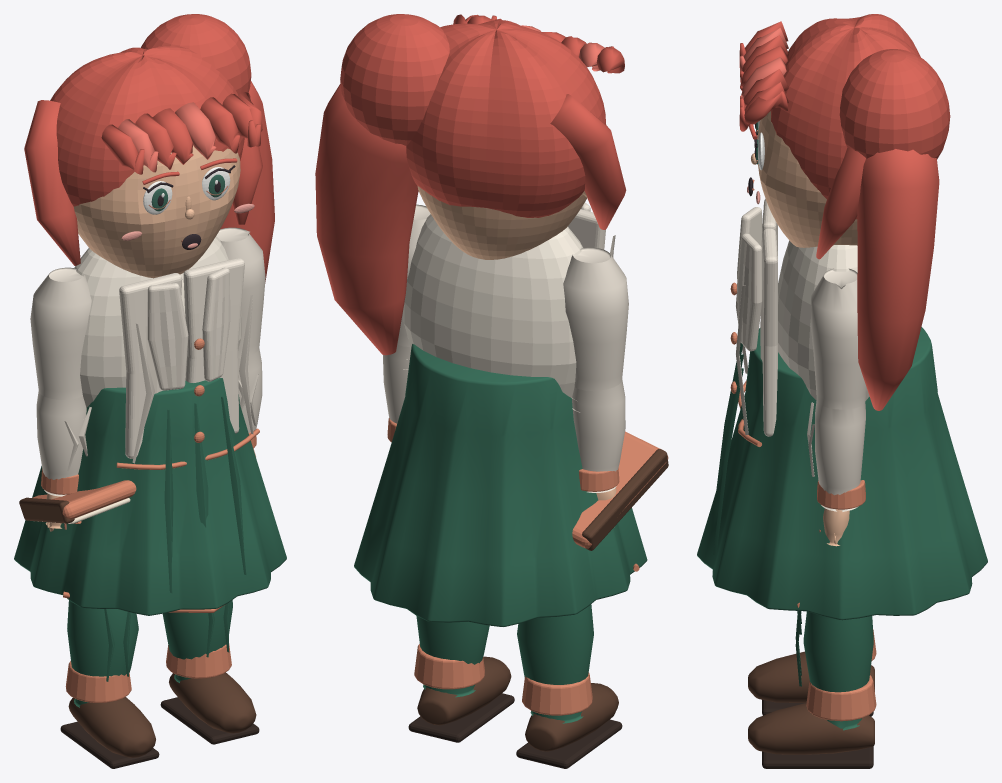
File: facilitator.glb
The picture shows the model from 3 angles, left to right: view 1: azimuth 30°, elevation 25°; view 2: azimuth 150°, elevation 25°; view 3: azimuth 270°, elevation 25°; orthographic projection. The views are drawn at different scales.
Visible parts, largest first — view 1: Skirt, HairCap, Head, UpperArm_-1, Torso, SideHair_-1, CoatPanel_1, CoatPanel_-1, HairBun, Shin_-1, Lapel_-1, Forearm_-1 (+28 smaller); view 2: Skirt, HairCap, Torso, Ponytail_Main, HairBun, UpperArm_-1, Head, Shin_-1, SideHair_-1, Forearm_-1, Shin_1, ShoeUpper_1 (+12 smaller); view 3: Skirt, Ponytail_Main, HairCap, HairBun, UpperArm_1, Torso, Head, Shin_1, ShoeUpper_1, Forearm_1, CoatPanel_1, SideHair_1 (+14 smaller).
Boxes of the visible parts, x1,y1,x2,y2 form: Skirt: (14,377,286,615); HairCap: (50,45,244,206); Head: (73,145,240,278); UpperArm_-1: (30,267,91,399); Torso: (74,236,241,407); SideHair_-1: (24,100,80,265); CoatPanel_1: (183,258,244,433); CoatPanel_-1: (119,273,182,458); HairBun: (140,14,251,95); Shin_-1: (67,600,138,707); Lapel_-1: (147,283,188,390); Forearm_-1: (36,391,86,496); Skirt: (354,344,647,626); HairCap: (406,20,606,217); Torso: (403,214,583,397); Ponytail_Main: (315,83,418,355); HairBun: (340,14,449,145); UpperArm_-1: (563,247,628,412); Head: (417,186,586,259); Shin_-1: (517,604,593,723); SideHair_-1: (550,94,626,229); Forearm_-1: (572,379,625,492); Shin_1: (416,616,489,697); ShoeUpper_1: (417,656,511,725); Skirt: (697,327,987,620); Ponytail_Main: (857,149,939,410); HairCap: (771,14,920,219); HairBun: (839,49,950,159); UpperArm_1: (811,268,866,409); Torso: (778,240,869,400); Head: (757,111,857,247); Shin_1: (803,611,873,730); ShoeUpper_1: (748,703,874,754); Forearm_1: (815,400,865,511); CoatPanel_1: (760,228,777,436); SideHair_1: (816,147,865,259).
Size of the model in its own units: 0.7207 by 1.73 by 0.6412.
